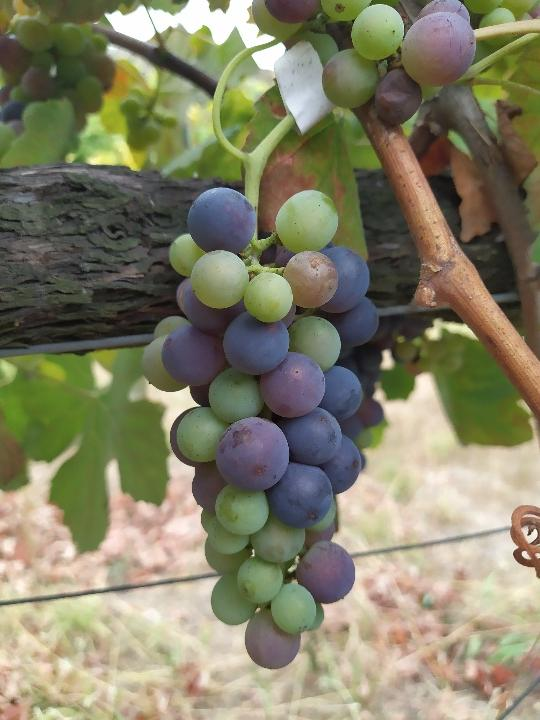grape: (137, 185, 381, 671)
